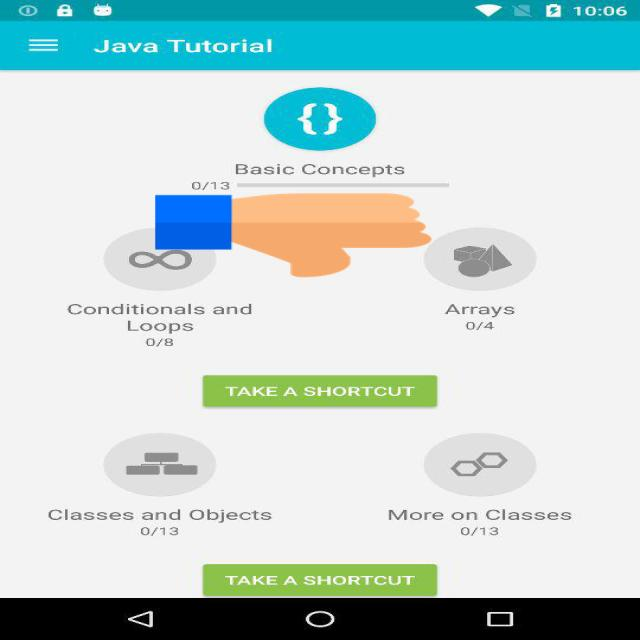obstruction: (156, 192, 432, 280)
